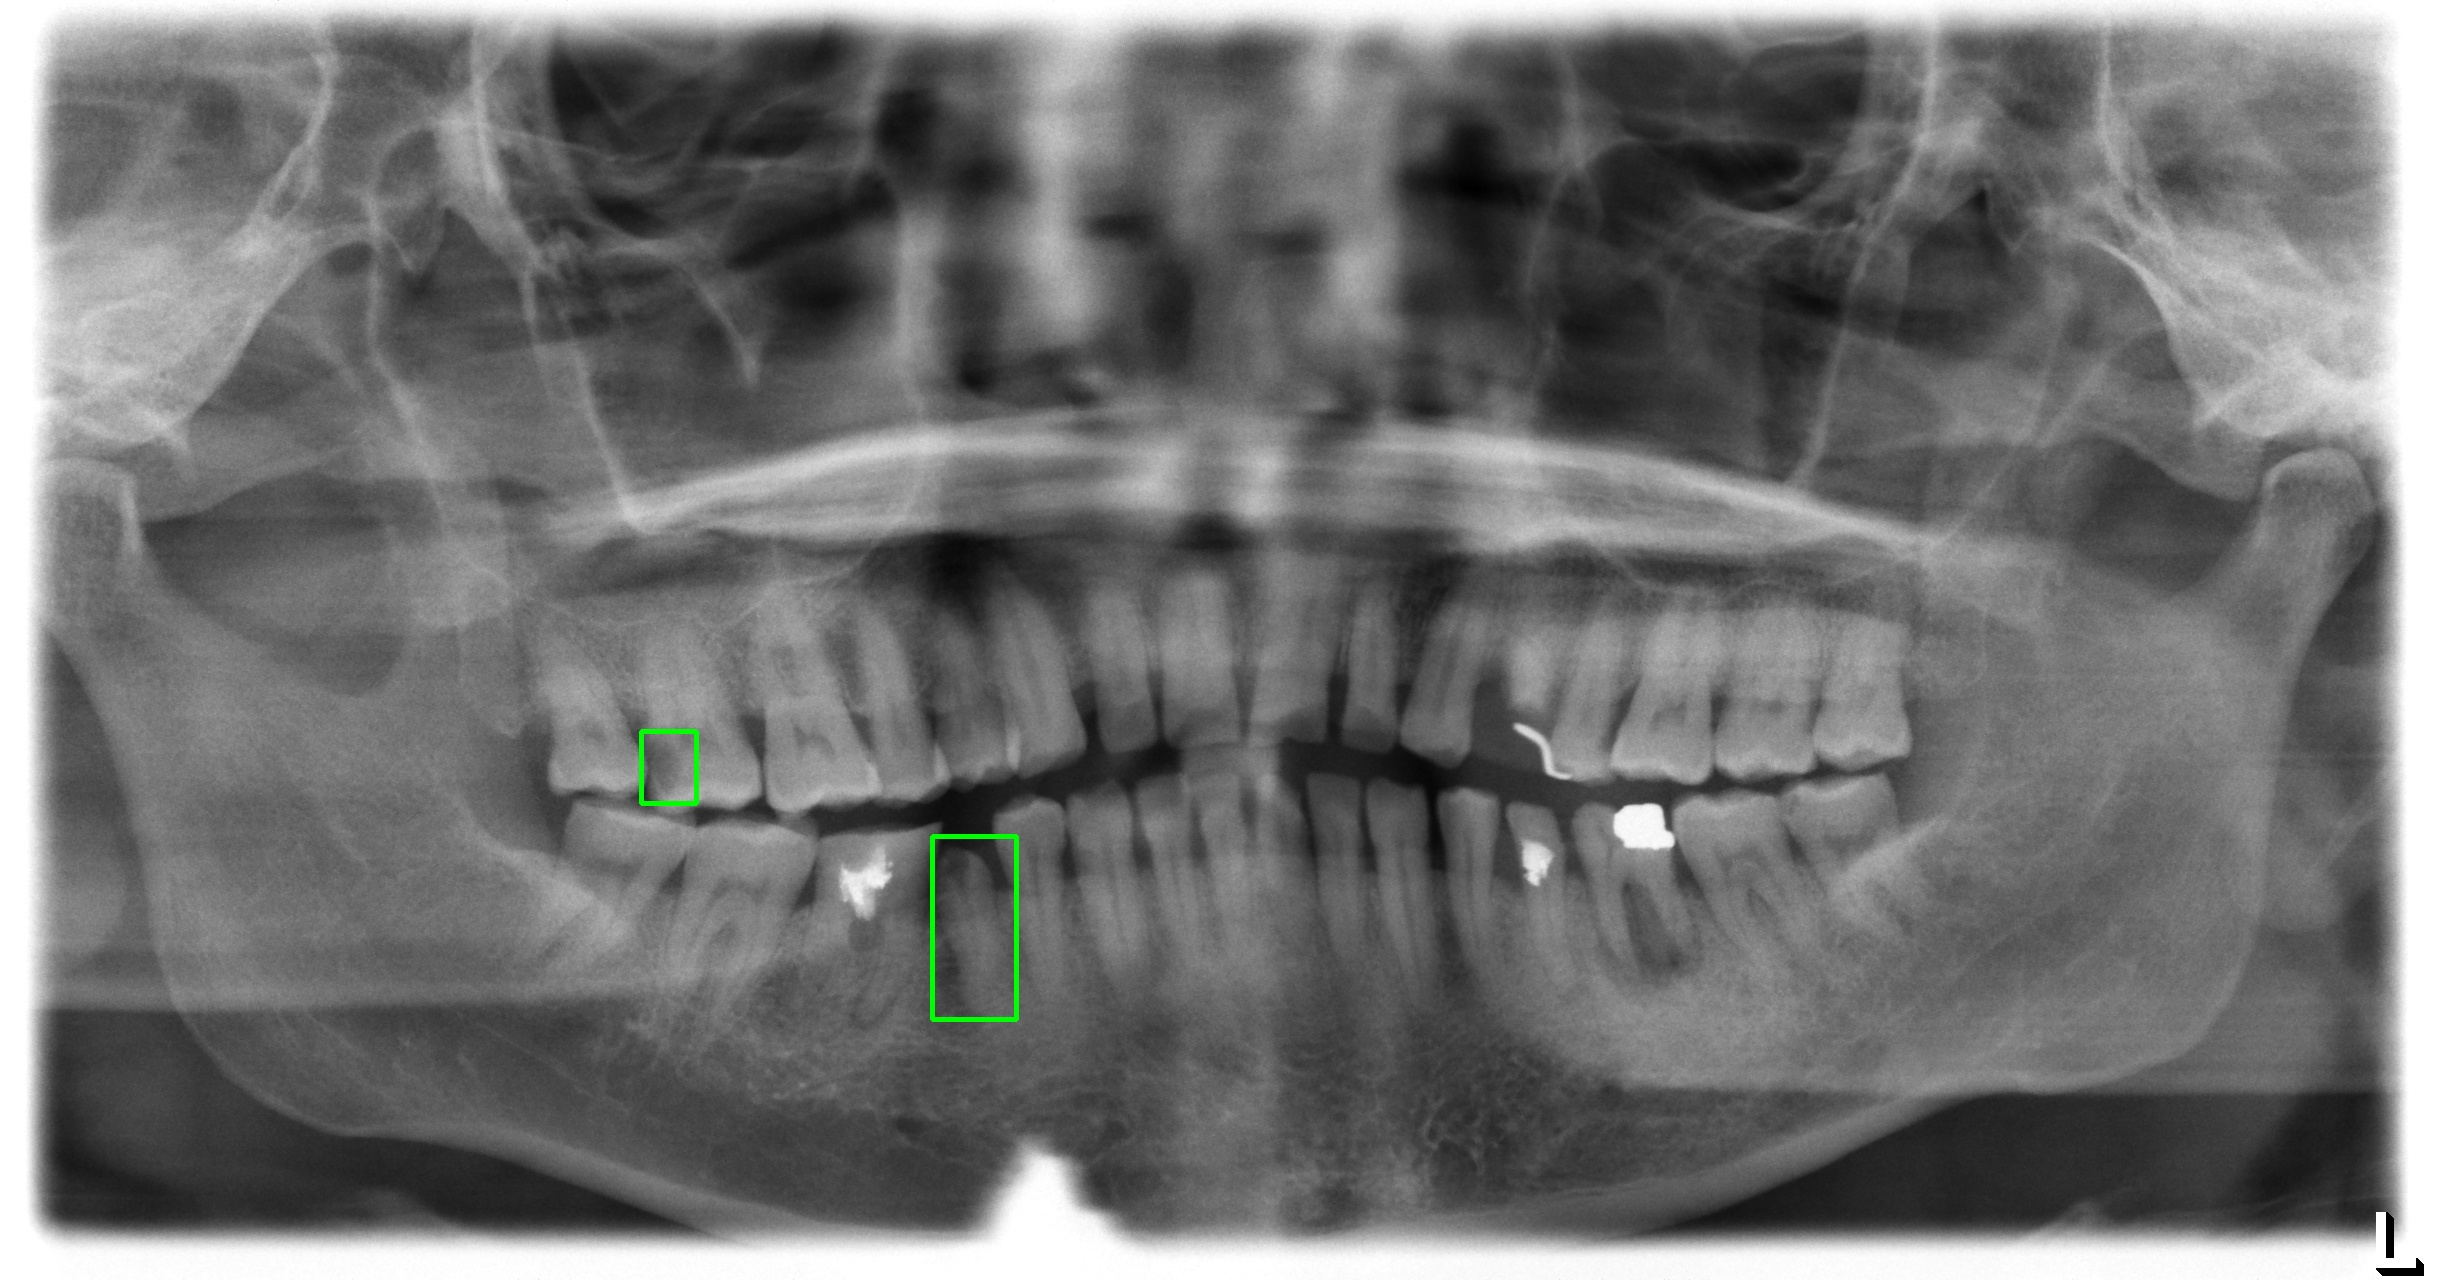Decay: (933, 836, 1017, 1019), (641, 731, 696, 802)
